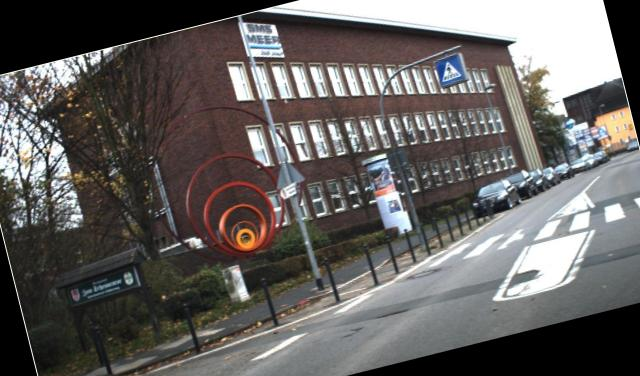crosswalk-sign: (433, 52, 470, 90)
